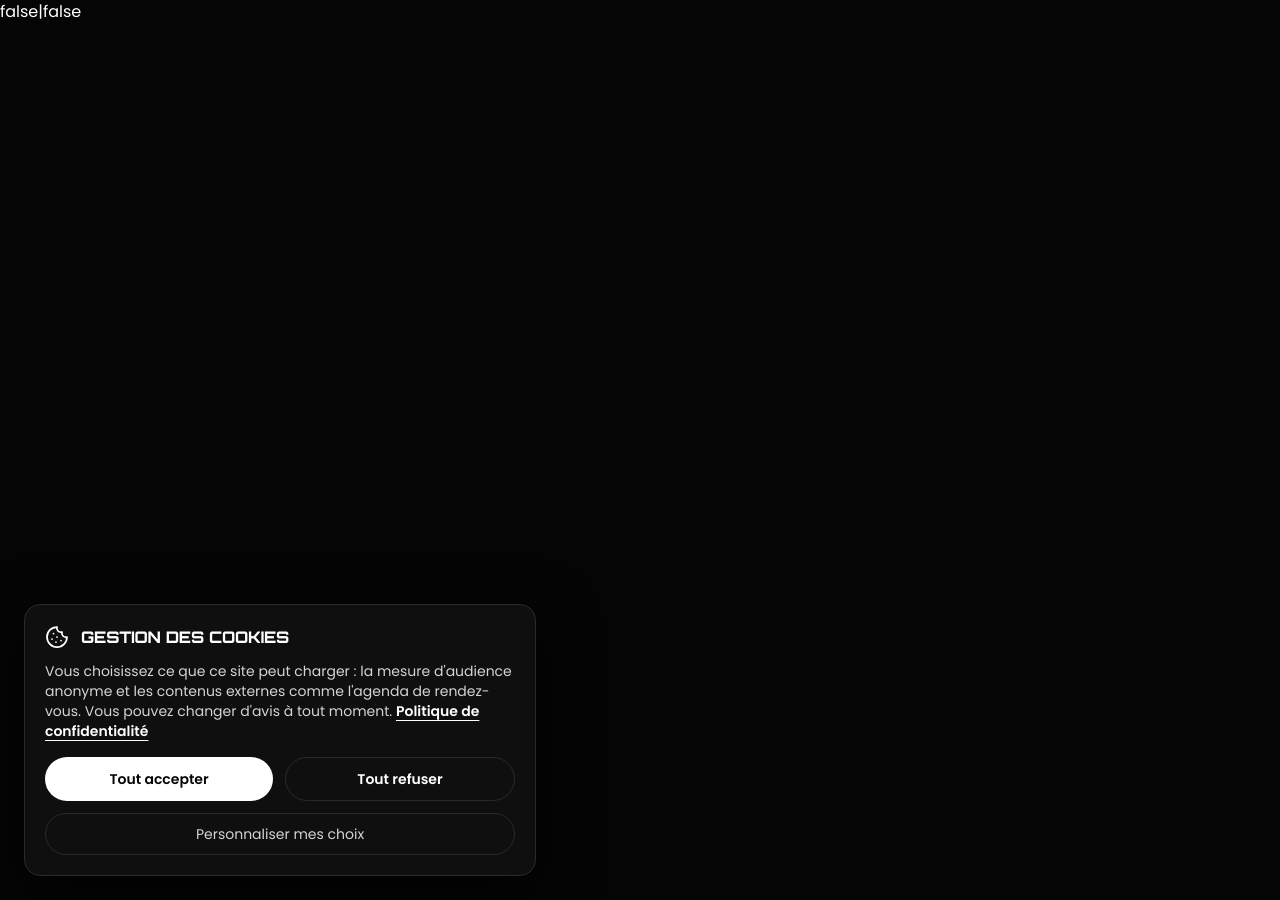
CookieBanner › keeps every category blocked and disappears when refusing all
Click the button "Tout refuser".
click(400, 779)  # box [285,757,515,801]
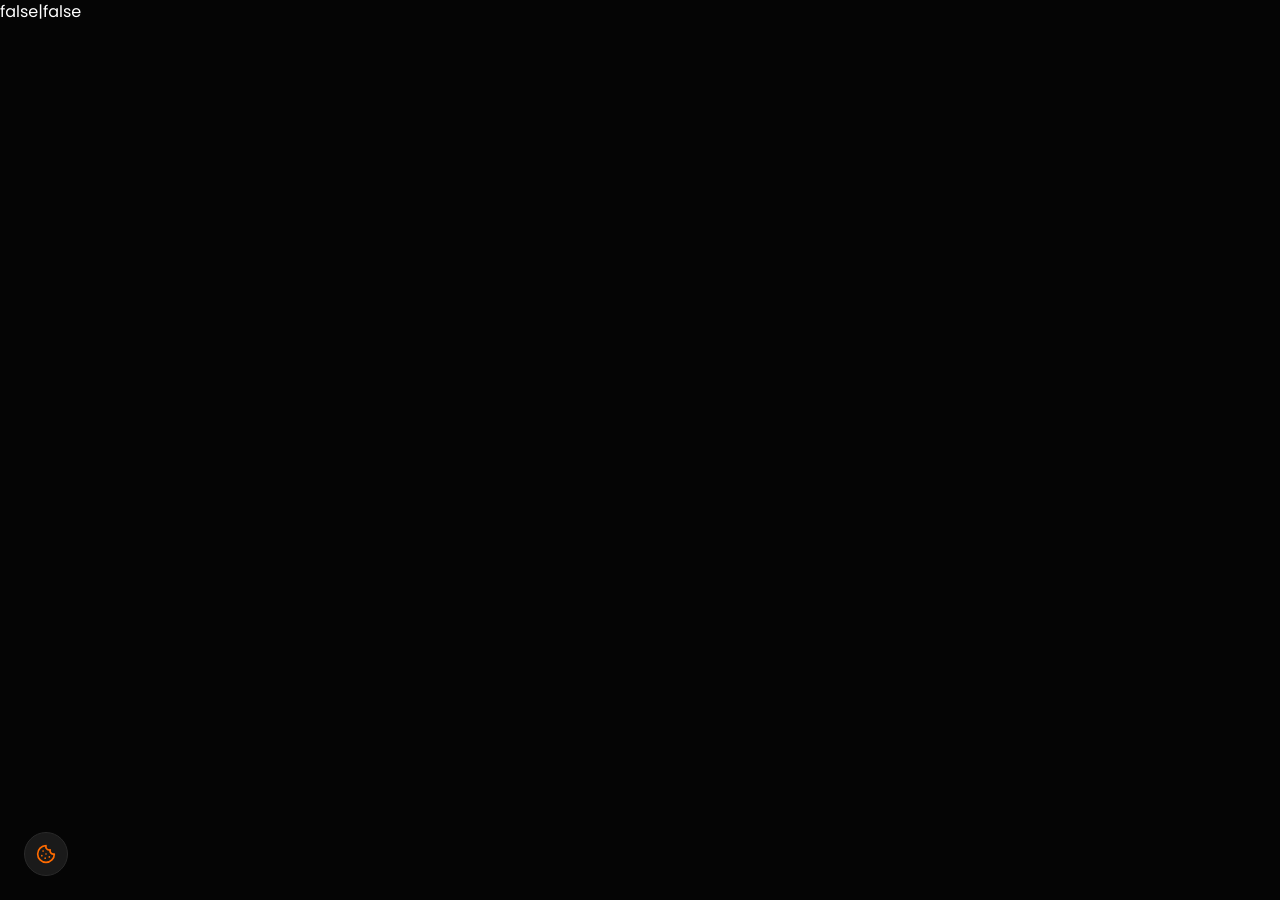
Expected: the text with test id "probe" reads "false|false", [0,0,81,23]
Result: the dialog is gone
